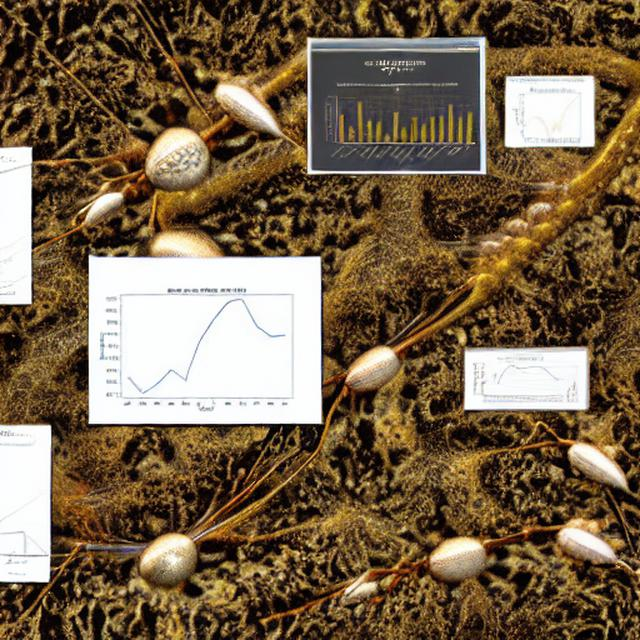Graph: (93, 269, 315, 422), (319, 79, 477, 171), (470, 355, 565, 407), (511, 85, 591, 145)
